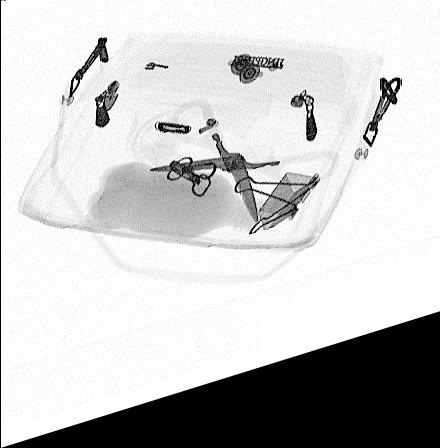Scissors: (145, 111, 338, 241)
